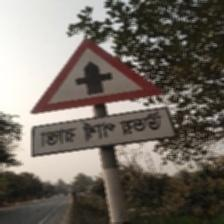Crossroad: (28, 37, 172, 159)
